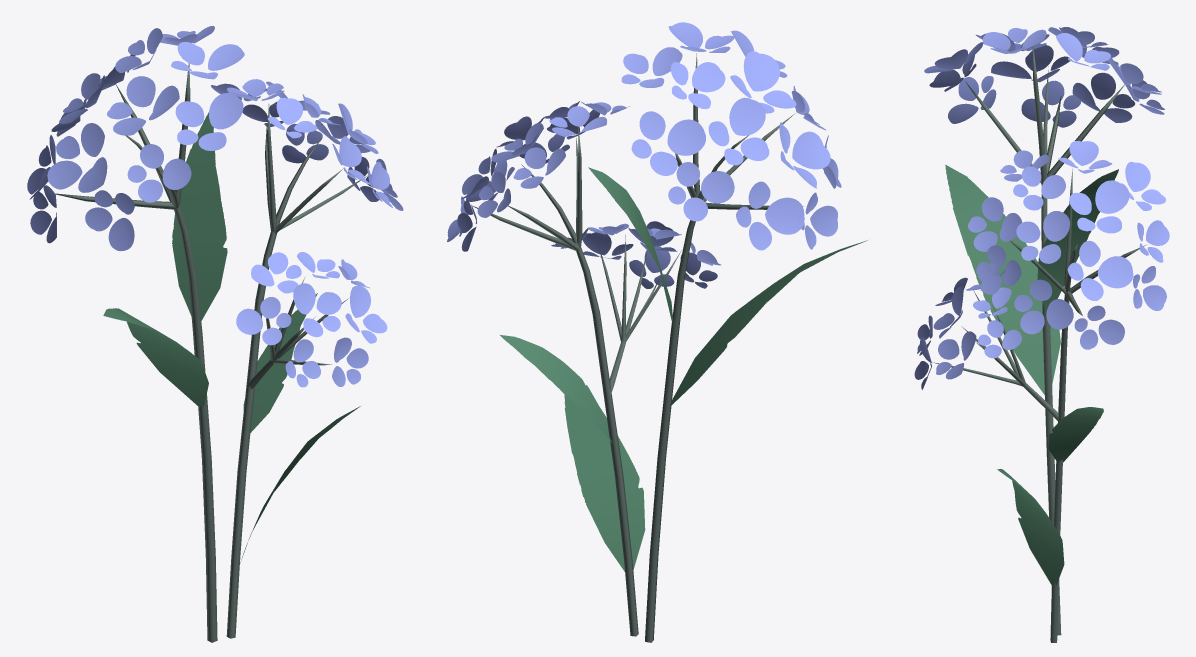
3 renders of one model, left to right at view 1: azimuth 30°, elevation 25°; view 2: azimuth 150°, elevation 25°; view 3: azimuth 270°, elevation 25°, orthographic. The views are drawn at different scales.
Visible parts, largest first — view 1: submesh_0; view 2: submesh_0; view 3: submesh_0.
Boxes of the visible parts, <box> form: submesh_0: <box>27,26,403,642</box>; submesh_0: <box>447,22,867,642</box>; submesh_0: <box>914,27,1169,642</box>.
Bounding box in the file's own units: 0.5044 × 0.8184 × 0.3448.
1 material, 1 textured.
